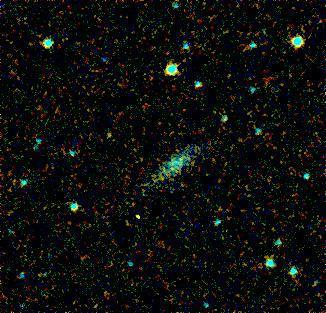star: (120, 202, 150, 232)
